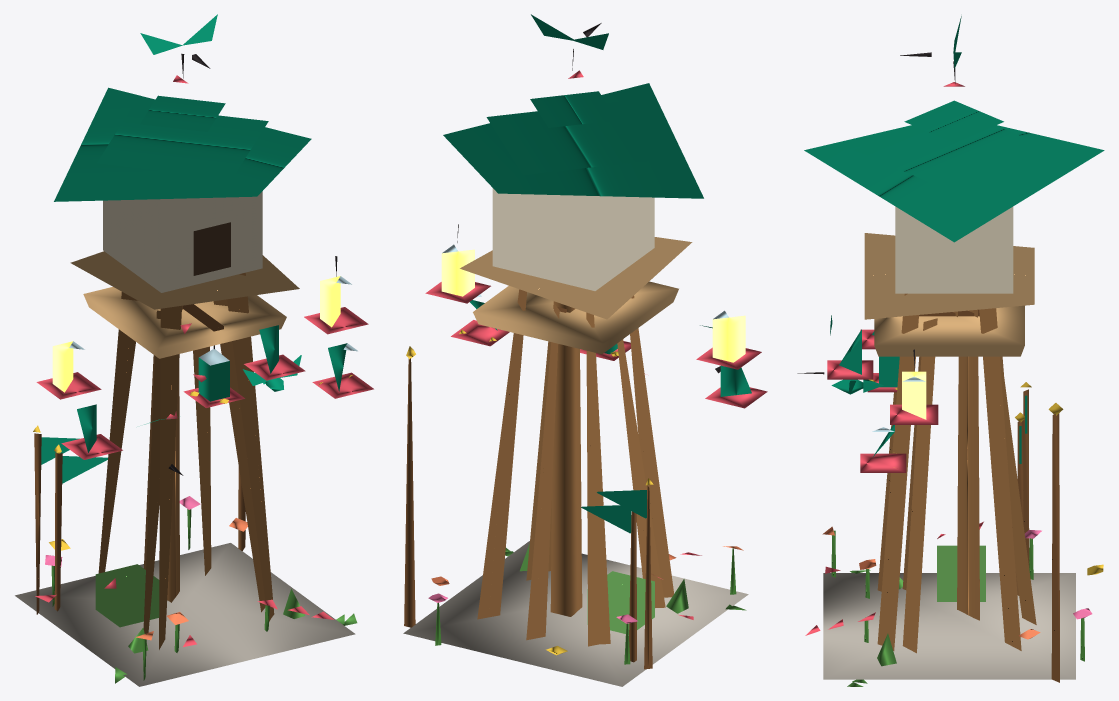
File: hummingbird-feeder-tower-blocky_lod2.glb
3 renders of one model, left to right at view 1: azimuth 30°, elevation 25°; view 2: azimuth 150°, elevation 25°; view 3: azimuth 270°, elevation 25°, orthographic.
Visible parts, largest first — view 1: lv3, lv2, lv1; view 2: lv3, lv2, lv1; view 3: lv3, lv2, lv1.
Part boxes in pixels (box(x1,y1,x2,y2)): lv3: box(15, 14, 368, 686); lv2: box(45, 287, 373, 646); lv1: box(95, 304, 305, 653); lv3: box(403, 14, 761, 686); lv2: box(431, 281, 767, 664); lv1: box(520, 301, 688, 634); lv3: box(804, 16, 1104, 686); lv2: box(797, 305, 1041, 683); lv1: box(831, 309, 985, 666).
Bounding box in the file's own units: 1.52 × 2.79 × 1.31.
